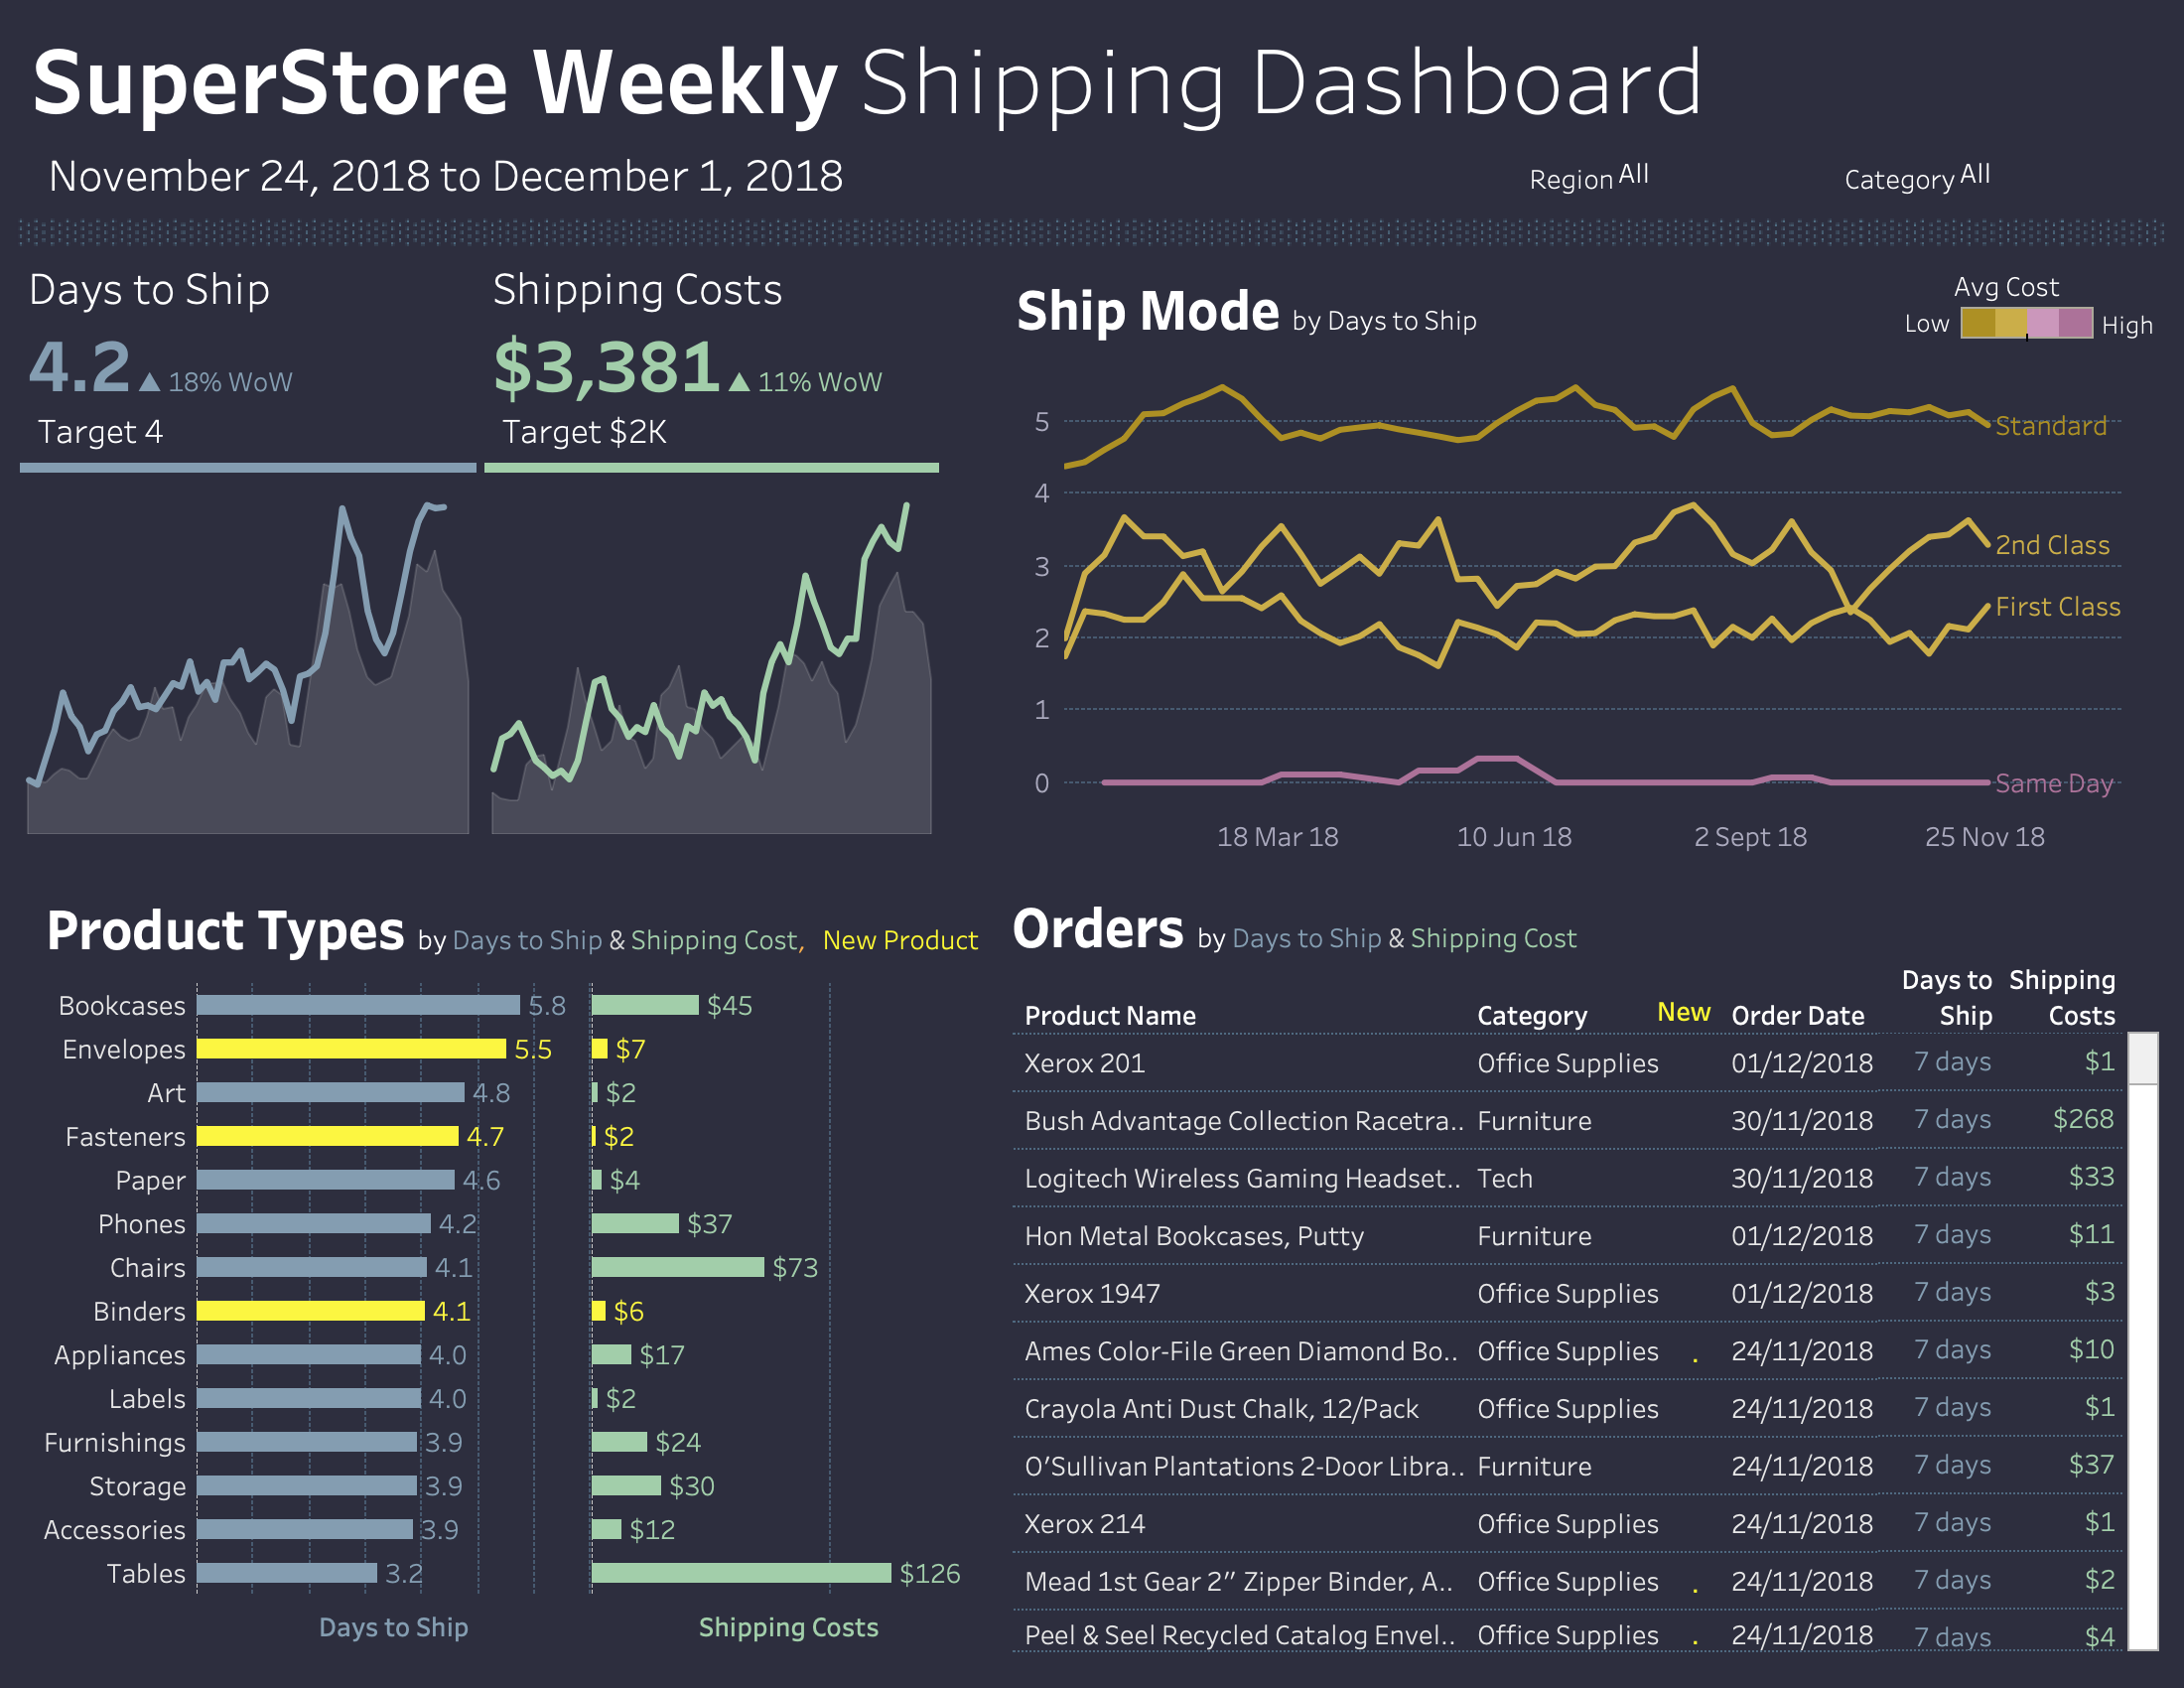

Layout of this report page (visuals, bound fields, positions):
{"tool":"tableau","page":{"name":"2 Top Down Dashboard","canvas":[1100,850],"ordinal":1},"visuals":[{"type":"text","box":[8,8,1084,119.2]},{"type":"worksheet","title":"Date","mark":"Automatic","box":[20,73,584,36]},{"type":"filter","title":"Days to Ship Time2","param":"[Sample - Superstore].[none:Region:nk]","box":[741,78,164,24]},{"type":"filter","title":"Days to Ship Time2","param":"[Sample - Superstore].[none:Category:nk]","box":[913,78,180,24]},{"type":"image","param":"Image/Border5.png","box":[8,110,1083,16]},{"type":"blank","box":[8,124,1086,9]},{"type":"worksheet","title":"Ship Mode","mark":"Automatic","rows":["2017 Discount (copy)"],"cols":["Order Date"],"box":[475,127.2,617,312.8]},{"type":"worksheet","title":"Discount KPI","mark":"Automatic","cols":["Calculation_122230518285139968"],"box":[10,129.2,230,108.8]},{"type":"worksheet","title":"Shipping Cost KPI2","mark":"Automatic","cols":["Calculation_122230518285139968"],"box":[244,129.2,229,108.8]},{"type":"legend","title":"Ship Mode","param":"[Sample - Superstore].[avg:Calculation_631700234606243840:qk]","box":[984,131,75,42]},{"type":"text","box":[933,149,52,26]},{"type":"text","box":[1056,153,39,21]},{"type":"worksheet","title":"Days to Ship Time2","mark":"Automatic","rows":["2017 Costs (copy)","2017 Discount (copy)"],"cols":["Order Date"],"box":[8,240,234,200]},{"type":"worksheet","title":"Shipping Cost Time2","mark":"Automatic","rows":["2017 Costs (copy 2)","2018 Costs (copy)"],"cols":["Order Date"],"box":[242,240,233,200]},{"type":"worksheet","title":"Product Sub Category","mark":"Automatic","rows":["Sub-Category"],"cols":["Calculation_713539076749619200","Costs (copy)"],"box":[8,440,497,402]},{"type":"worksheet","title":"Product Order Details","mark":"Text","rows":["Order ID","Product Name","Category","Calculation_400679646864777216","Order Date"],"box":[505,440,587,402]},{"type":"text","box":[507,444,577,44]},{"type":"text","box":[832,496,36,22]}]}

Visuals, with their boxes in screenshot pixels (x1, y1, x2, y2), scaled from the page's 1100x850 canvas onto the 2184x1688 screenshot:
text: x1=16, y1=16, x2=2168, y2=252
"Date" worksheet: x1=40, y1=145, x2=1199, y2=216
"Days to Ship Time2" filter: x1=1471, y1=155, x2=1797, y2=203
"Days to Ship Time2" filter: x1=1813, y1=155, x2=2170, y2=203
image: x1=16, y1=218, x2=2166, y2=250
blank: x1=16, y1=246, x2=2172, y2=264
"Ship Mode" worksheet: x1=943, y1=252, x2=2168, y2=874
"Discount KPI" worksheet: x1=20, y1=256, x2=477, y2=473
"Shipping Cost KPI2" worksheet: x1=484, y1=256, x2=939, y2=473
"Ship Mode" legend: x1=1954, y1=260, x2=2103, y2=344
text: x1=1852, y1=296, x2=1956, y2=348
text: x1=2097, y1=304, x2=2174, y2=346
"Days to Ship Time2" worksheet: x1=16, y1=477, x2=480, y2=874
"Shipping Cost Time2" worksheet: x1=480, y1=477, x2=943, y2=874
"Product Sub Category" worksheet: x1=16, y1=874, x2=1003, y2=1672
"Product Order Details" worksheet (Text marks): x1=1003, y1=874, x2=2168, y2=1672
text: x1=1007, y1=882, x2=2152, y2=969
text: x1=1652, y1=985, x2=1723, y2=1029
